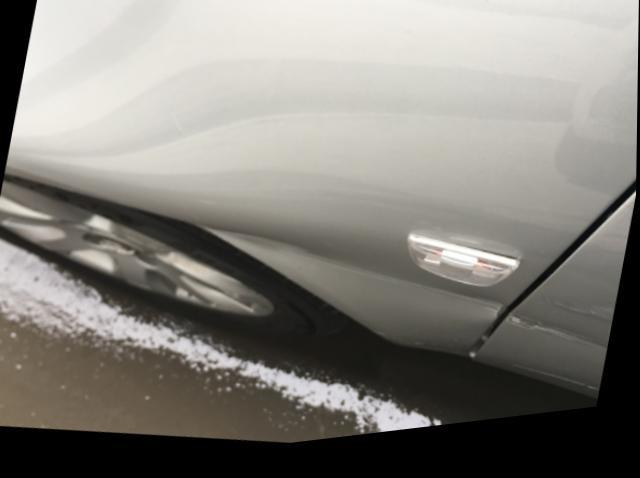scratch: (192, 226, 513, 334), (508, 326, 608, 368), (547, 300, 618, 340)
